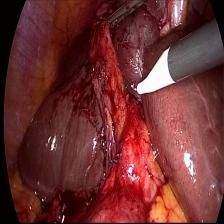Grasper: (98, 0, 148, 35)
Hook: (118, 42, 178, 110)
